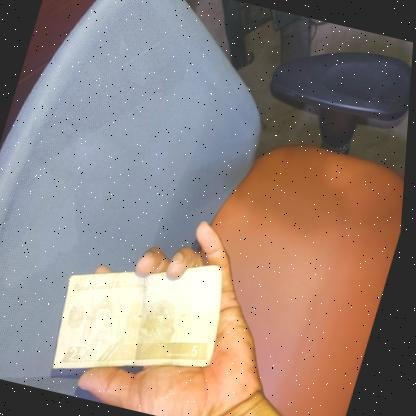five-back-vef: (47, 235, 244, 402)
